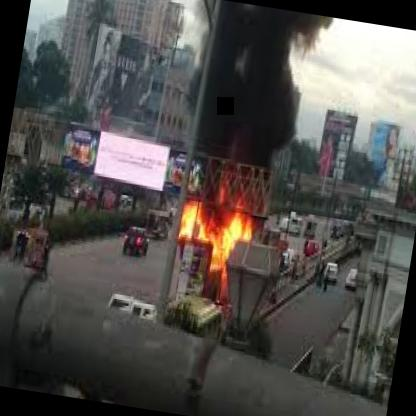fire: (160, 142, 259, 324), (199, 0, 291, 138)
